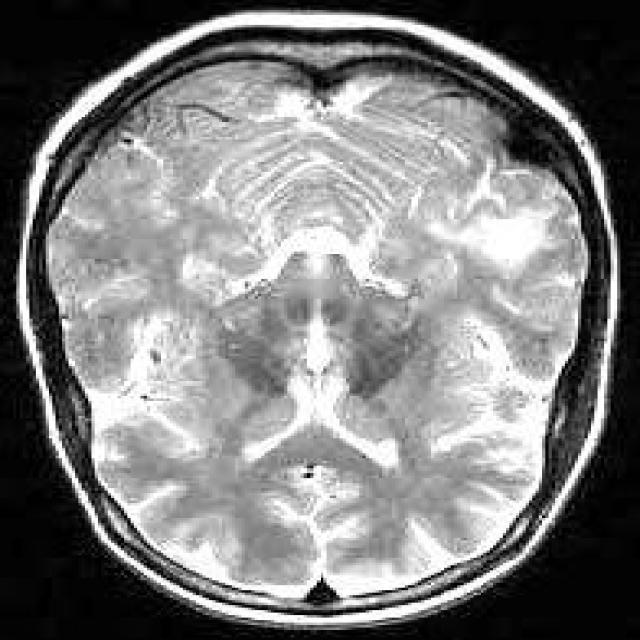notumor: (16, 10, 619, 626)
